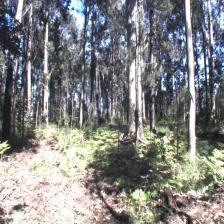trunktrack_idkeyframe: (127, 60, 144, 128), (186, 65, 196, 152), (1, 80, 12, 137)
